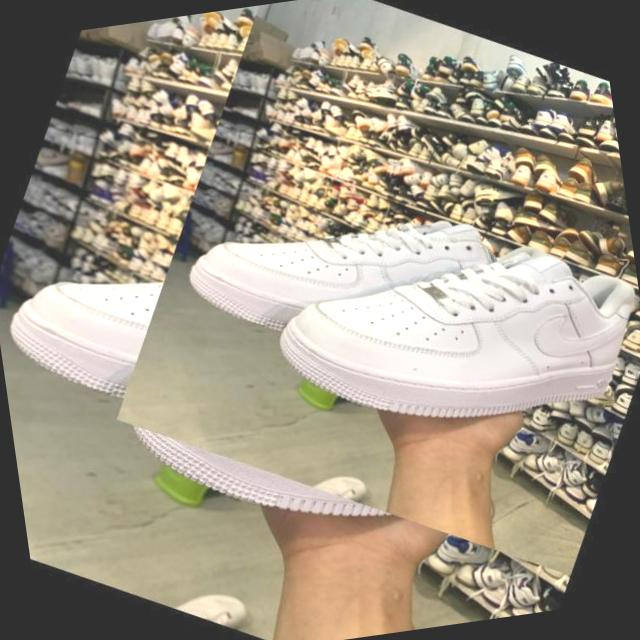nike_fake_airforce: (241, 134, 640, 523), (156, 96, 583, 458)
